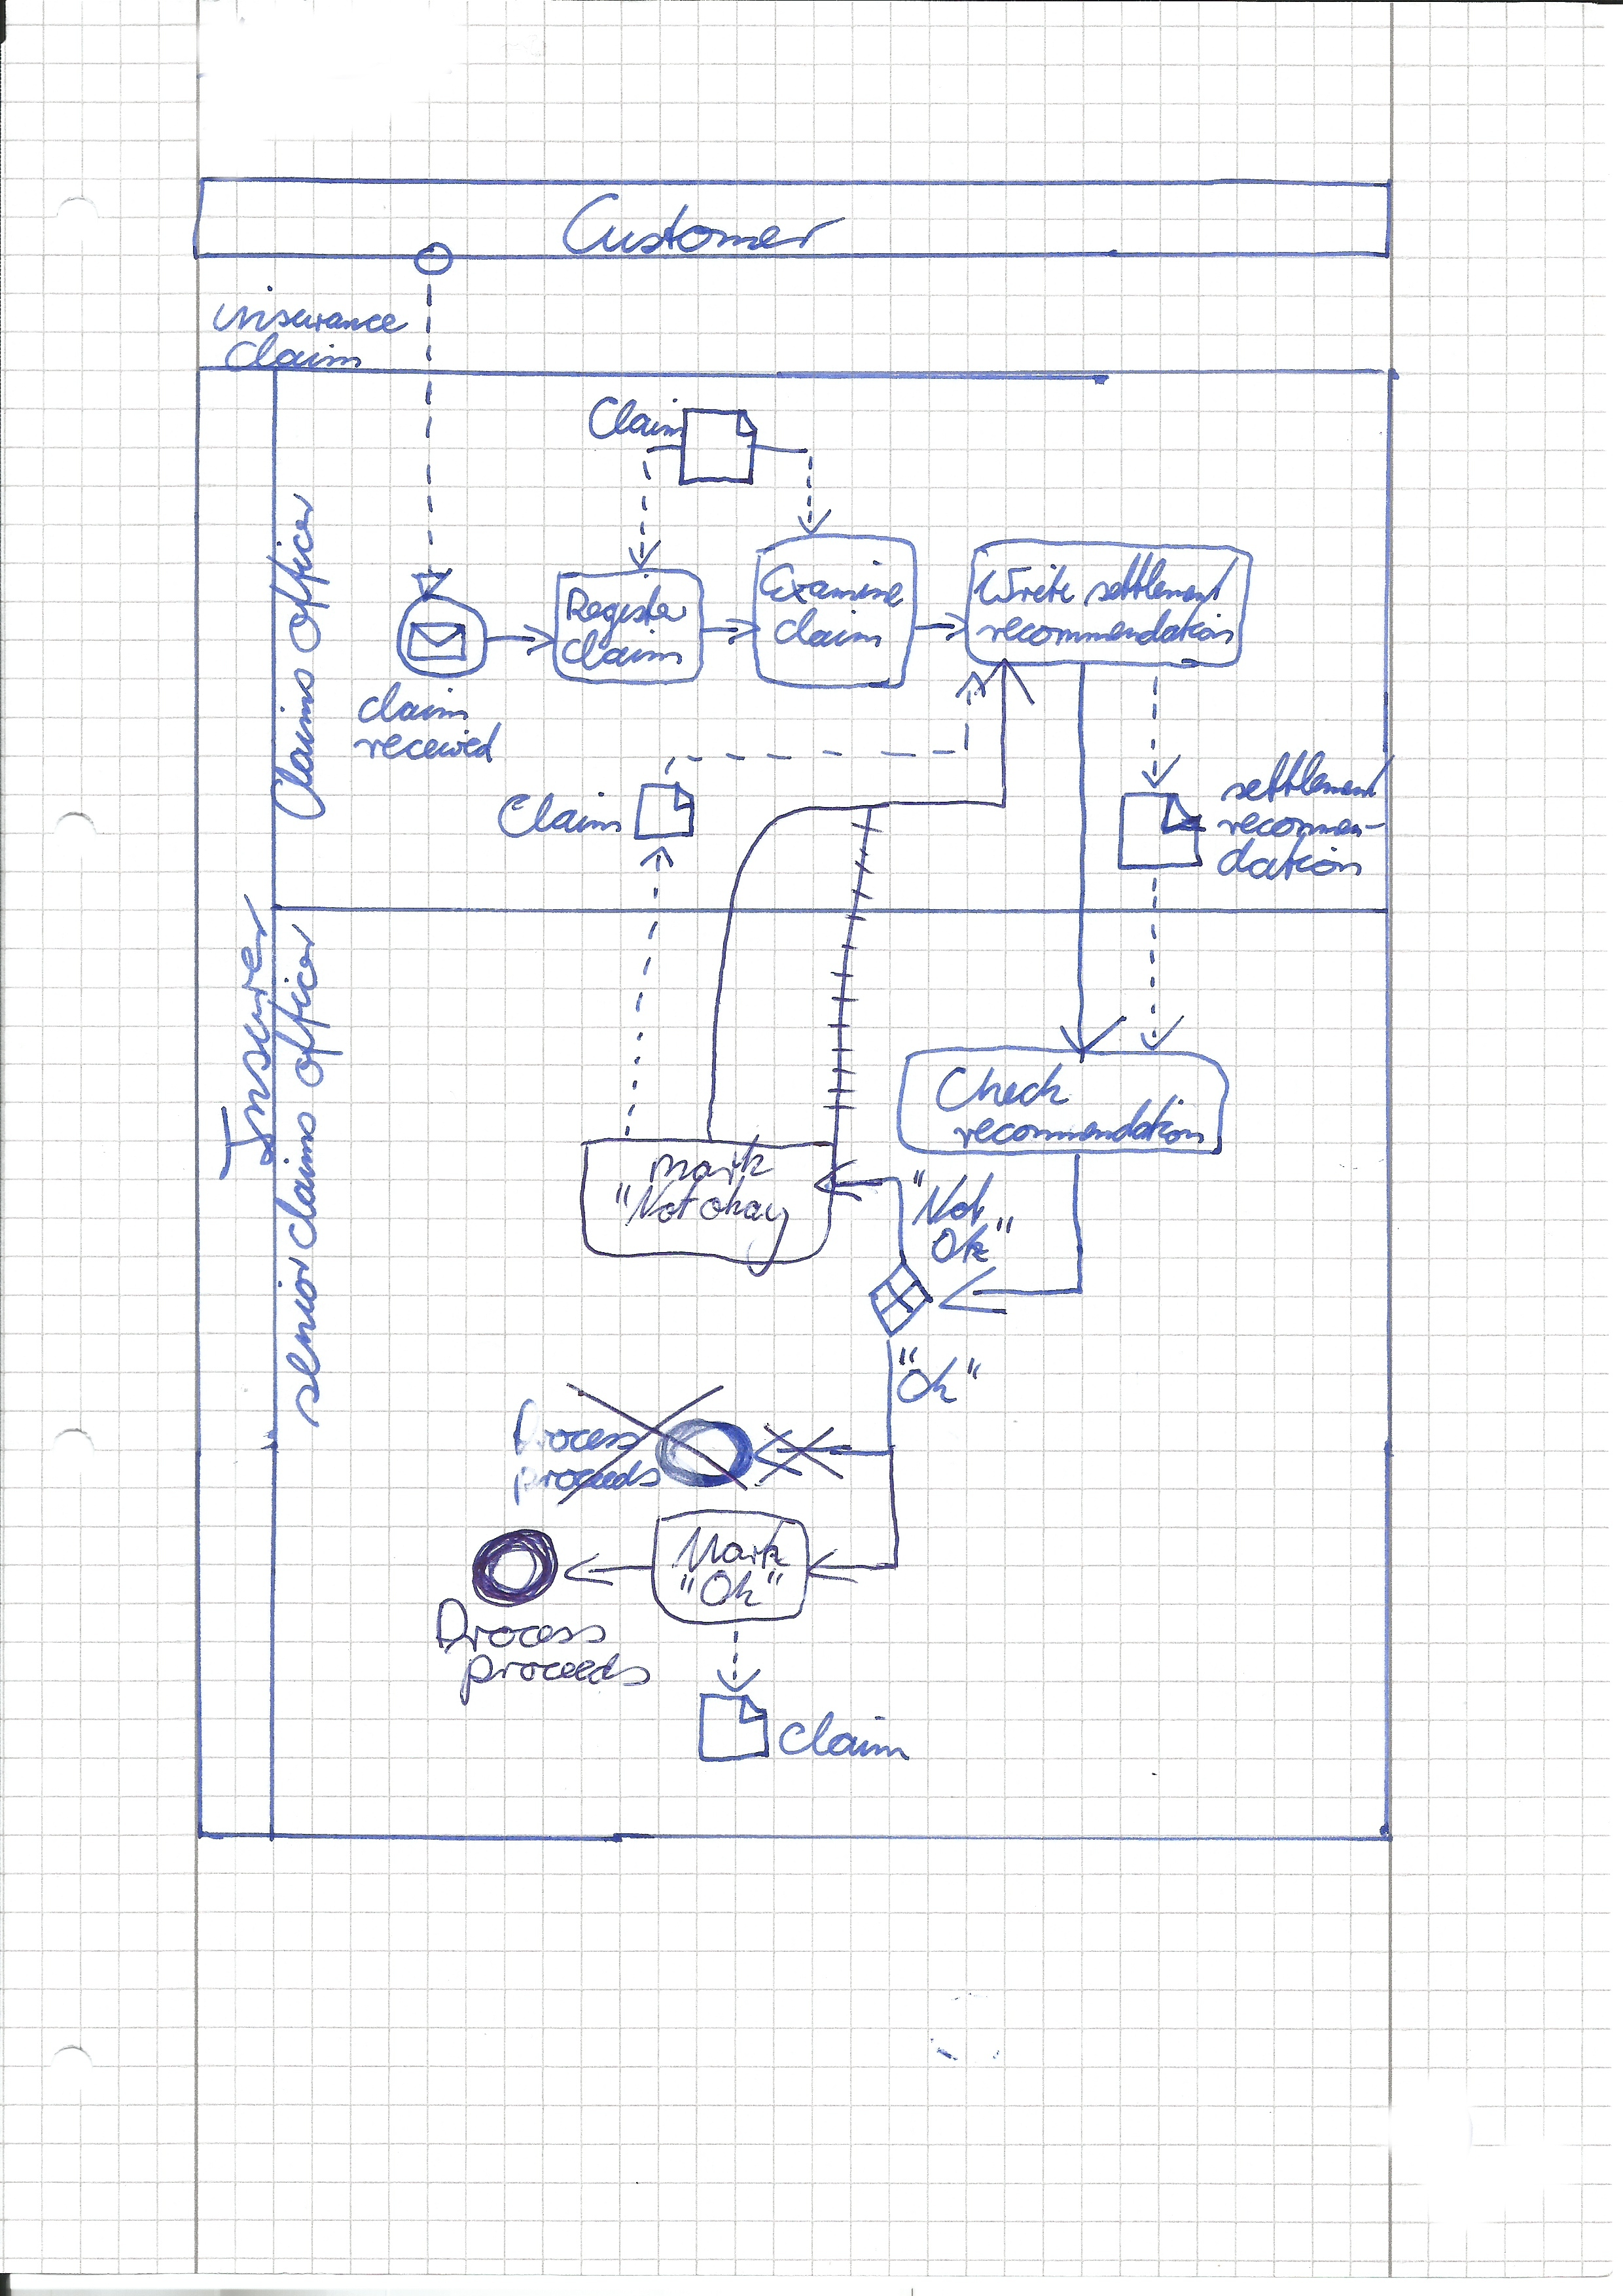Check: (929, 1058, 1073, 1117)
Claim: (490, 787, 627, 845), (581, 390, 694, 444)
Claims: (263, 661, 332, 827)
Customer: (552, 184, 854, 262)
Examine: (752, 555, 912, 613)
Insurer: (211, 887, 283, 1189)
Mark: (664, 1513, 796, 1579)
Not: (906, 1163, 999, 1231), (611, 1170, 708, 1231)
Ok: (892, 1340, 987, 1411), (924, 1210, 1021, 1270), (674, 1563, 787, 1613)
Process: (429, 1592, 613, 1660)
Register: (560, 569, 694, 655)
Write: (966, 559, 1080, 611)
claim: (773, 1706, 917, 1771), (218, 327, 371, 381), (557, 624, 690, 676), (350, 676, 474, 726), (768, 603, 887, 653)
claims: (267, 1105, 321, 1254)
dation: (1210, 826, 1368, 885)
insurance: (204, 279, 415, 341)
mark: (645, 1128, 780, 1189)
officer: (260, 917, 350, 1094), (260, 488, 337, 659)
okay: (694, 1170, 794, 1284)
proceeds: (453, 1646, 659, 1713)
received: (346, 717, 508, 768)
recommen-: (1210, 808, 1393, 843)
recommendation: (945, 1089, 1214, 1154), (970, 597, 1240, 652)
senior: (270, 1247, 328, 1437)
settlement: (1214, 745, 1402, 810), (1077, 545, 1245, 613)
